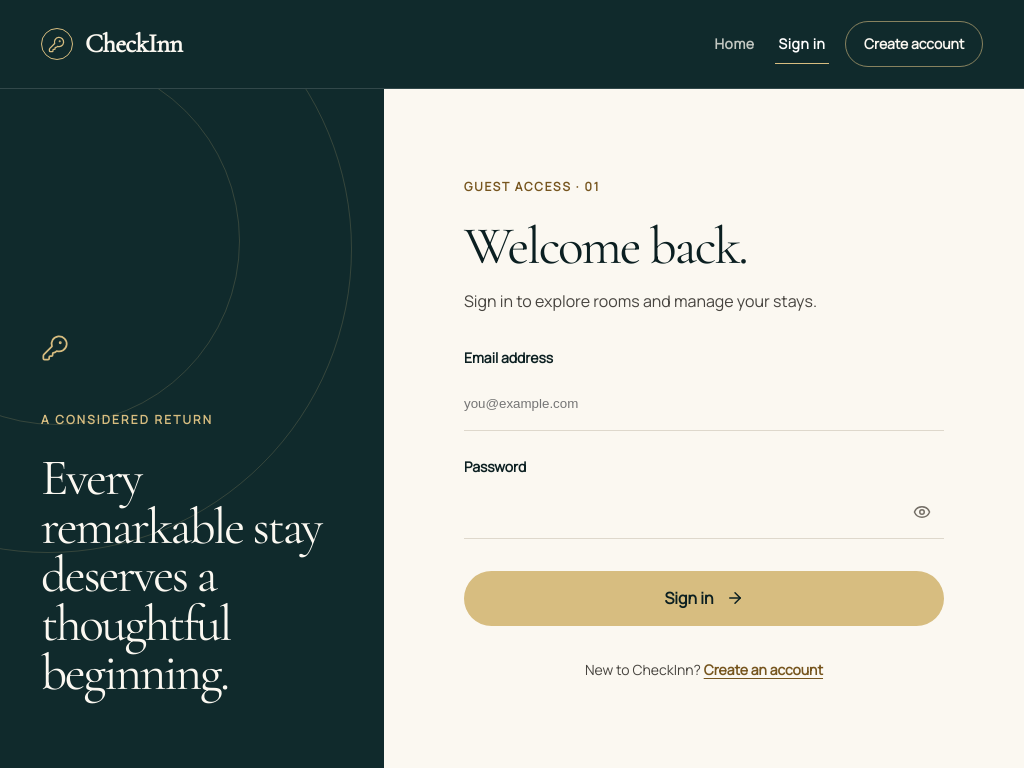
Scenario: authentication routes › shows backend validation errors on the matching field
Type "valid@example.com" into the field labelled "Email address". click: [704, 404]
box: [464, 377, 944, 431]
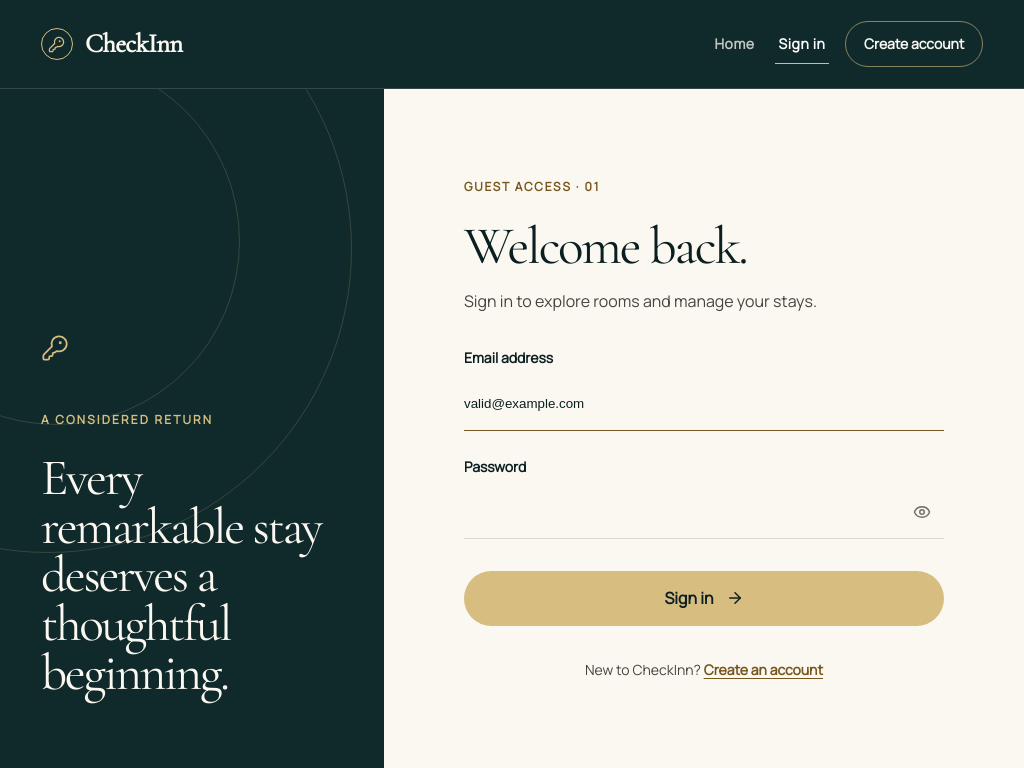
Type "Password123!" into the password field labelled "Password". click: [704, 512]
box: [464, 486, 944, 539]
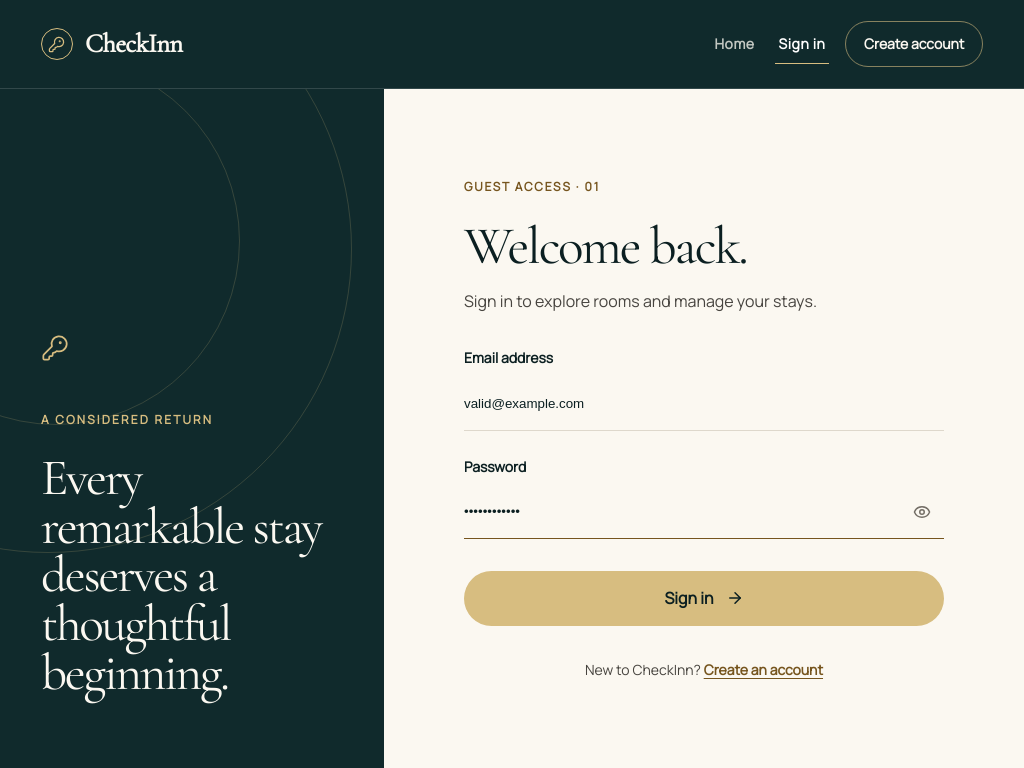
Click the button "Sign in". click: [704, 598]
box: [464, 571, 944, 626]
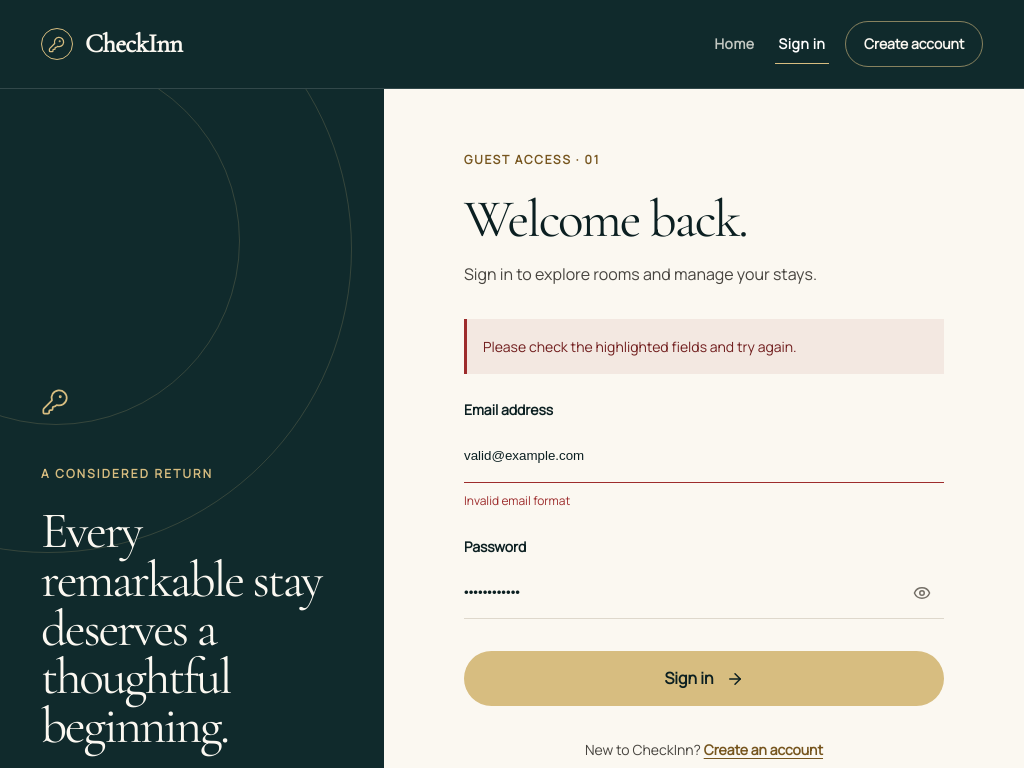
Expected: the text "Invalid email format" is shown, [464, 492, 570, 509]
